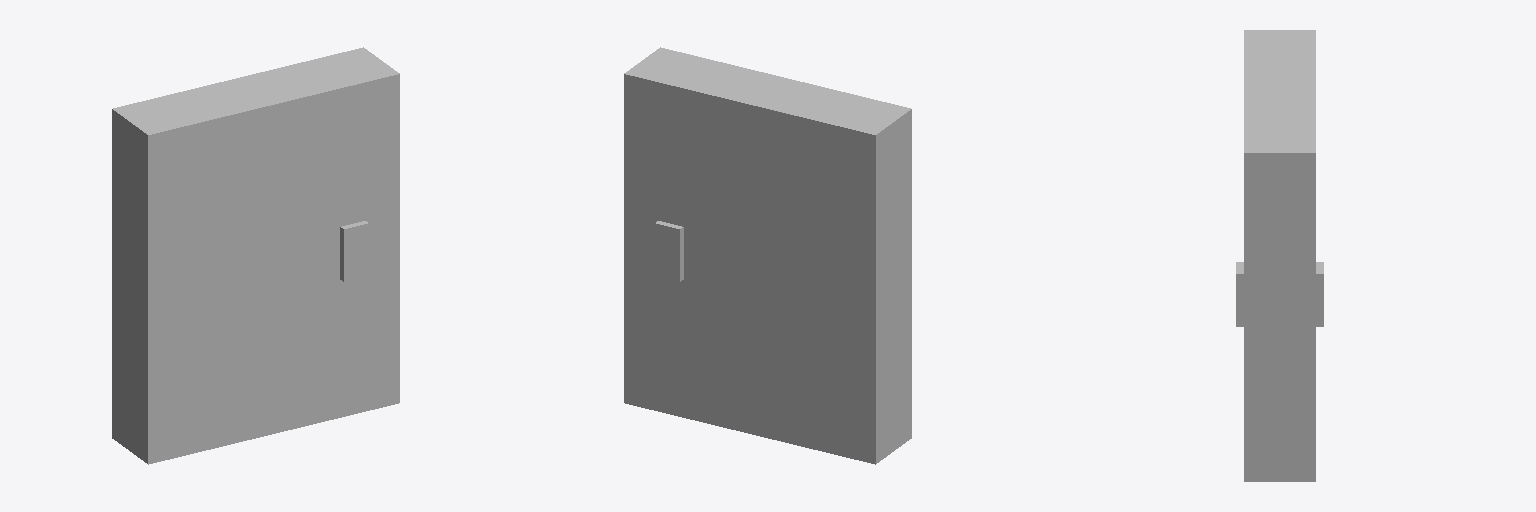
The model's file is door.obj.
3 views of the same model, side by side, from view 1: azimuth 30°, elevation 25°; view 2: azimuth 150°, elevation 25°; view 3: azimuth 270°, elevation 25° (orthographic).
Visible parts, largest first — view 1: Cube, Cube.002; view 2: Cube, Cube.001; view 3: Cube.
Boxes of the visible parts, box(x1,y1,x2,y2) form: Cube: box(112, 47, 399, 464); Cube.002: box(340, 221, 368, 281); Cube: box(624, 47, 911, 464); Cube.001: box(655, 221, 683, 281); Cube: box(1244, 30, 1315, 481).
Size of the model in its own units: 4 by 5 by 1.2.